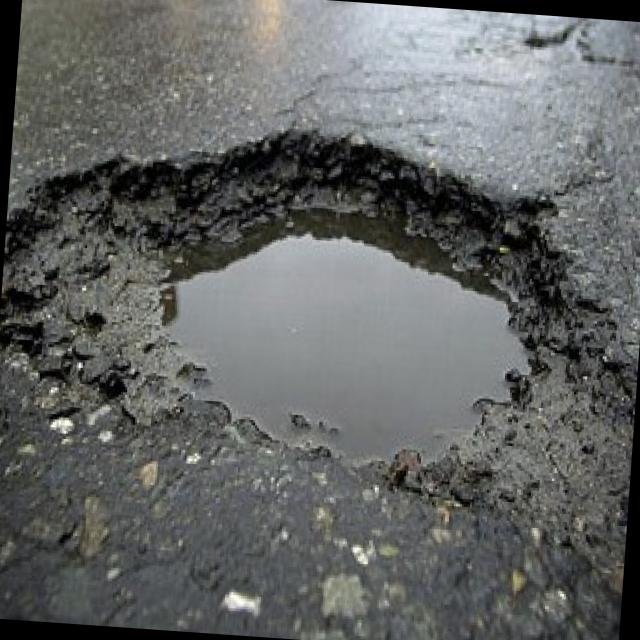Potholes: (0, 53, 640, 610)
